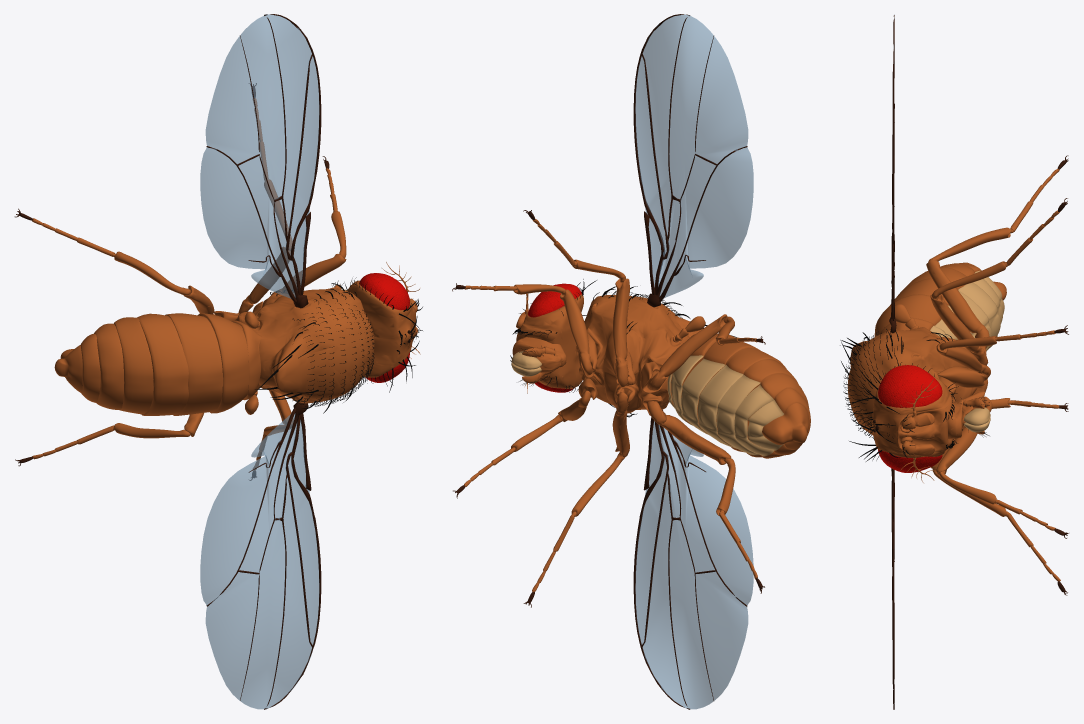
Rendered from fly.glb.
3 views of the same model, side by side, from view 1: azimuth 30°, elevation 25°; view 2: azimuth 150°, elevation 25°; view 3: azimuth 270°, elevation 25° (orthographic).
Visible parts, largest first — view 1: geom:29, geom:35, geom:0, geom:45, geom:48, geom:33, geom:27, geom:5, geom:51, geom:42, geom:54, geom:3 (+8 smaller); view 2: geom:29, geom:35, geom:0, geom:27, geom:33, geom:5, geom:49, geom:52, geom:57, geom:145, geom:97, geom:129 (+14 smaller); view 3: geom:0, geom:5, geom:6, geom:129, geom:3, geom:42, geom:27, geom:97, geom:49, geom:81, geom:131, geom:33 (+13 smaller).
Part boxes in pixels (x1,y1,x2,y2): geom:29: (200,14,319,298); geom:35: (200,413,319,709); geom:0: (237,287,374,403); geom:45: (165,313,222,415); geom:48: (137,313,188,415); geom:33: (206,402,321,709); geom:27: (206,14,321,308); geom:5: (347,280,415,377); geom:51: (113,317,153,414); geom:42: (198,313,248,413); geom:54: (94,323,123,409); geom:3: (253,283,374,413); geom:29: (635,14,753,297); geom:35: (635,421,753,709); geom:0: (576,295,702,413); geom:27: (633,14,747,307); geom:33: (633,410,747,709); geom:5: (516,294,583,388); geom:49: (697,365,743,448); geom:52: (716,374,760,455); geom:57: (762,403,809,449); geom:145: (647,401,731,464); geom:97: (613,278,629,387); geom:129: (647,314,727,390); geom:0: (847,327,972,435); geom:5: (872,375,952,457); geom:6: (878,365,942,472); geom:129: (926,259,989,348); geom:3: (840,329,952,440); geom:42: (874,294,947,336); geom:27: (889,15,896,333); geom:97: (930,294,988,365); geom:49: (958,282,1000,349); geom:81: (936,396,992,474); geom:131: (928,227,1011,261); geom:33: (891,468,894,709).
Size of the model in its own units: 0.3012 by 0.6114 by 0.1845.
